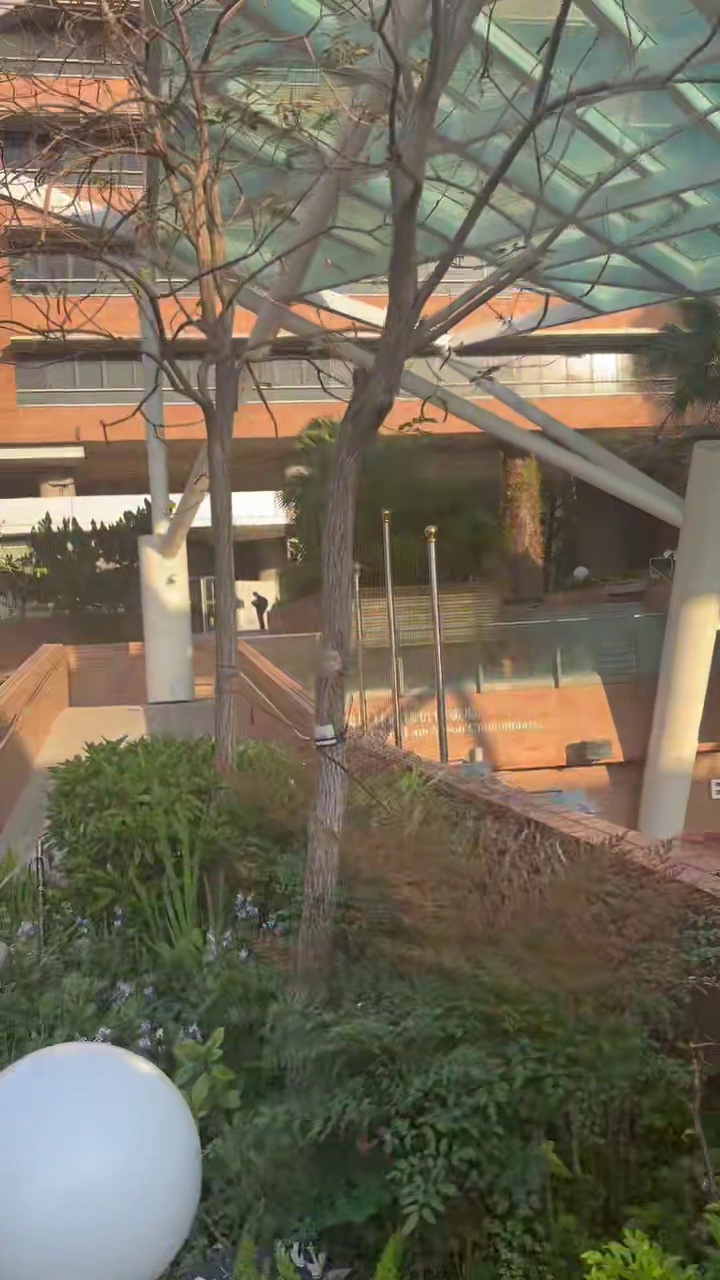Tabebuia chrysantha: (297, 0, 609, 979)
